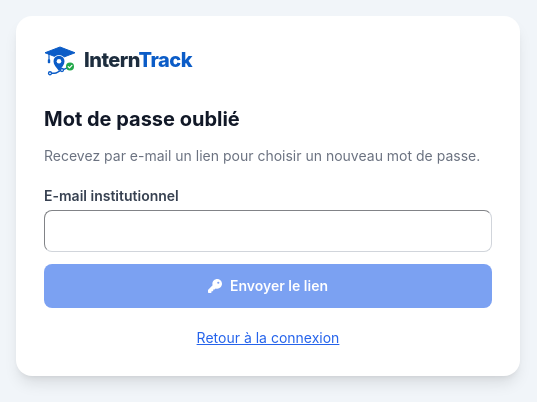
Test: Mot de passe oublié › envoie la demande puis affiche un message neutre (pas de fuite d'existence du compte)
Type "etudiant@ensa.ma" into the field labelled "E-mail institutionnel" at (268, 231), box [44,210,492,252]
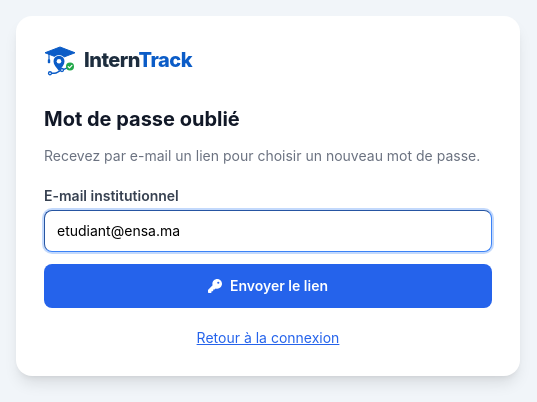
Click the button "Envoyer le lien" at (268, 286), box [44,264,492,308]
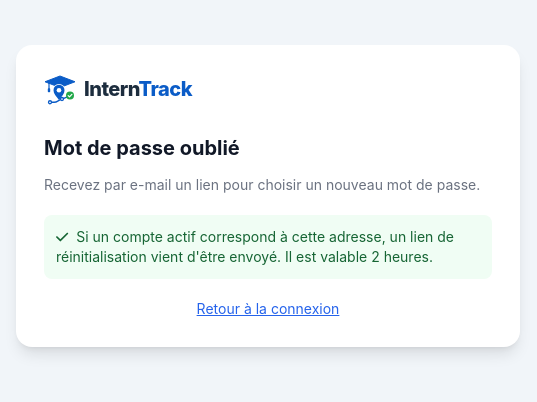
Result: the text "Si un compte actif correspond" is shown at [56,228,454,265]
